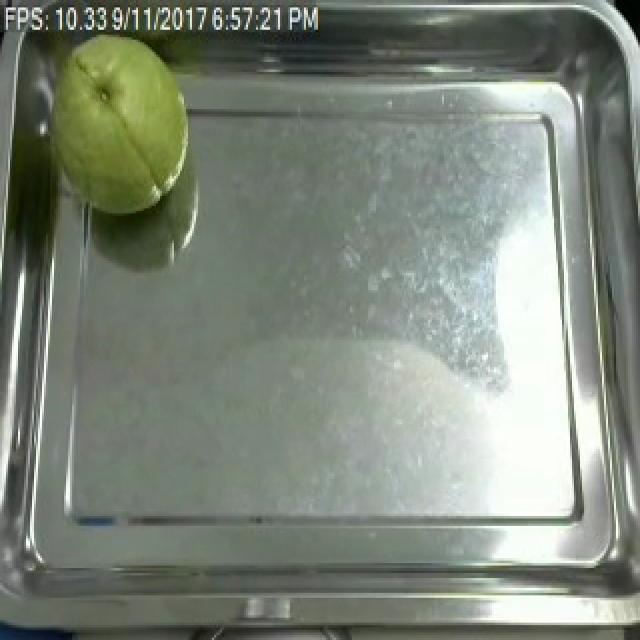Fruit: (30, 15, 200, 226)
